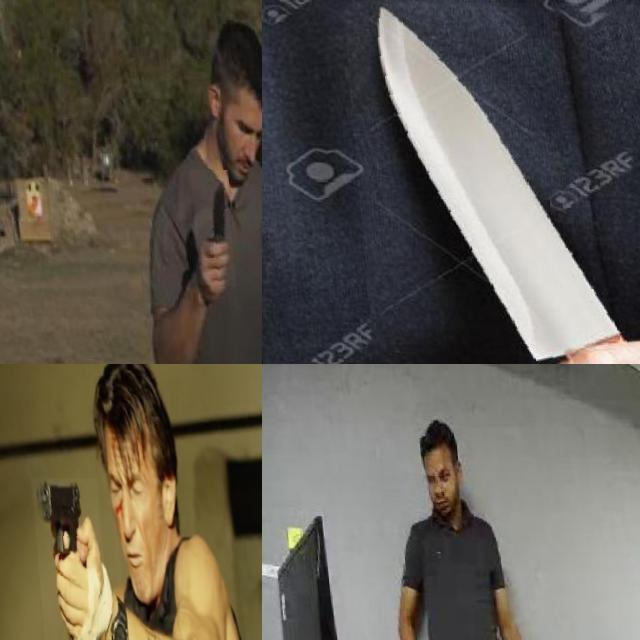-: (340, 0, 640, 364), (187, 168, 231, 286)
gun-knife-thesis - v11 Yolov5 augmented: (27, 476, 105, 640)
